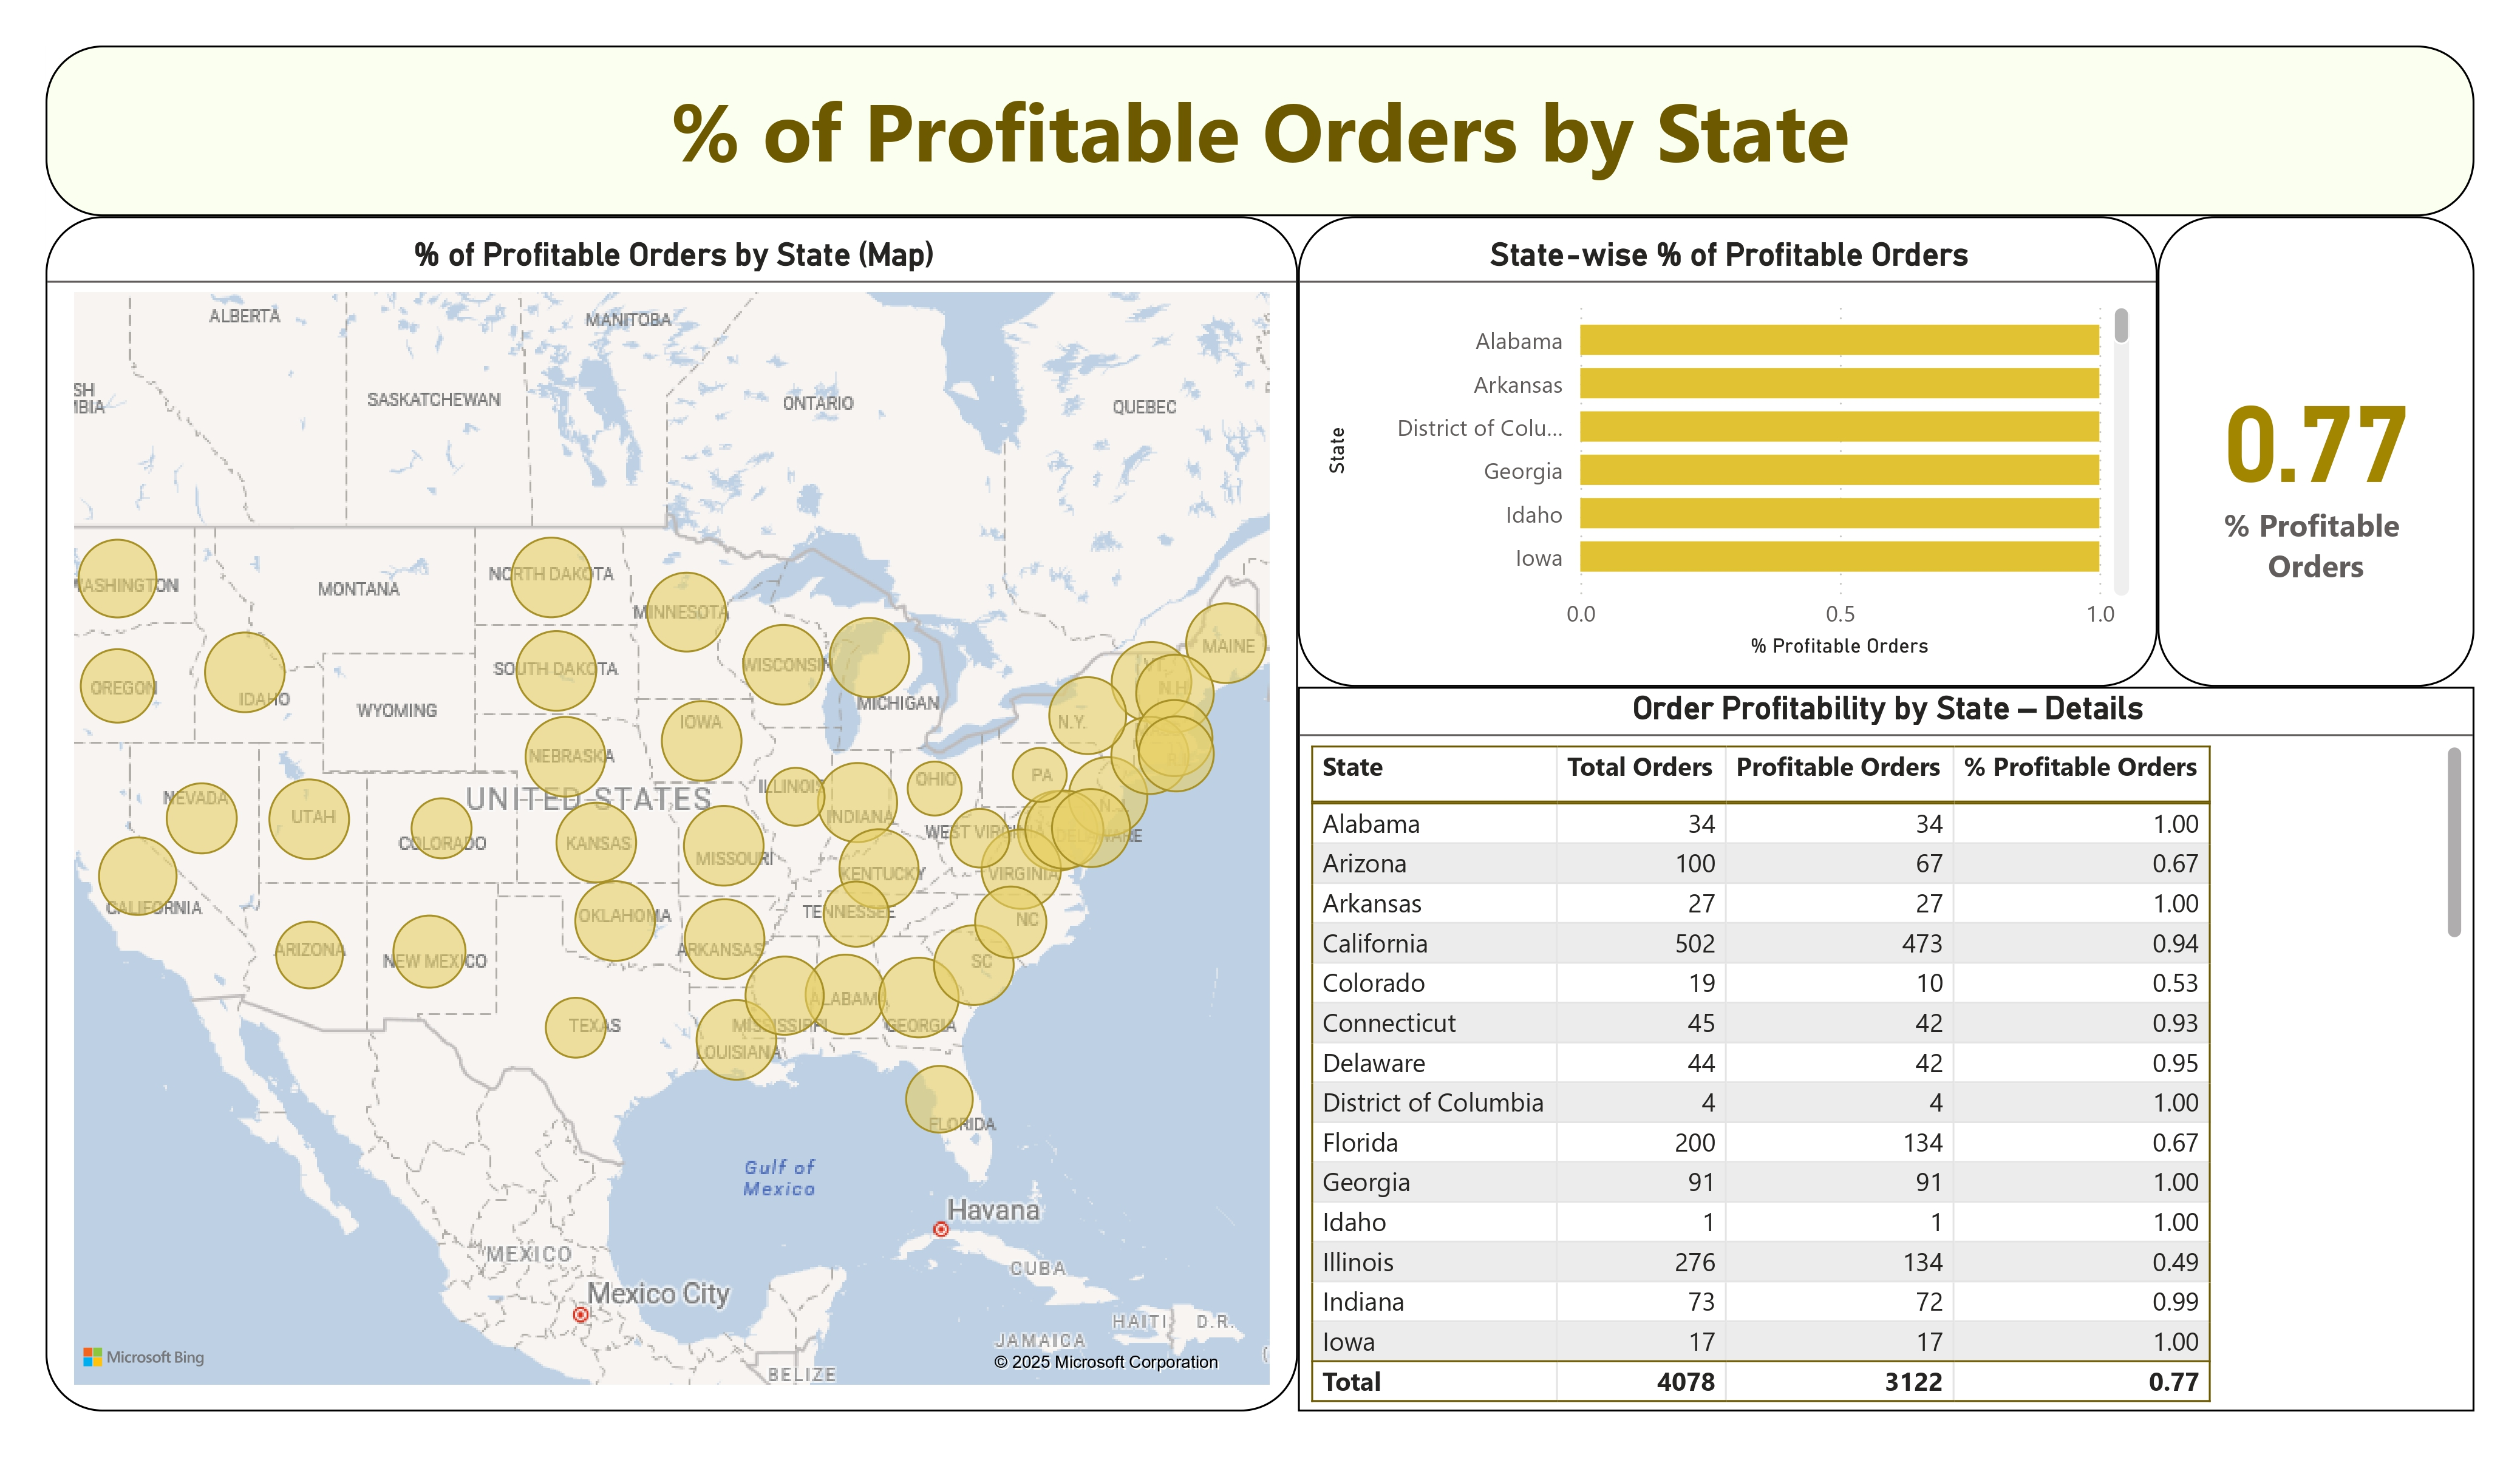

The page's visual inventory and layout, read from the dashboard file:
{"tool":"powerbi","page":{"name":"% of Profitable Orders by State","canvas":[1280,720],"ordinal":5},"visuals":[{"type":"card","fields":{"Values":["Append1.% Profitable Orders"]},"box":[1113.3,90,166.7,248.3],"z":0},{"type":"map","title":"% of Profitable Orders by State (Map)","fields":{"Category":["Append1.State"],"Size":["Append1.% Profitable Orders"]},"box":[0,90,660,630],"z":1000},{"type":"barChart","title":"State-wise % of Profitable Orders","fields":{"Category":["Append1.State"],"Y":["Append1.% Profitable Orders"]},"box":[660,90,453.3,248.3],"z":2000},{"type":"tableEx","title":"Order Profitability by State – Details","fields":{"Values":["Append1.State","Append1.Total Orders","Append1.Profitable Orders","Append1.% Profitable Orders"]},"box":[660,338.3,620,381.7],"z":3000},{"type":"textbox","box":[0,0,1280,90],"z":4000}]}

Visuals, with their boxes in screenshot pixels (x1, y1, x2, y2):
card - Append1.% Profitable Orders: region(2144, 208, 2456, 673)
"% of Profitable Orders by State (Map)" map: region(59, 208, 1295, 1387)
"State-wise % of Profitable Orders" barChart: region(1295, 208, 2144, 673)
"Order Profitability by State – Details" tableEx: region(1295, 673, 2456, 1387)
textbox: region(59, 39, 2456, 208)
